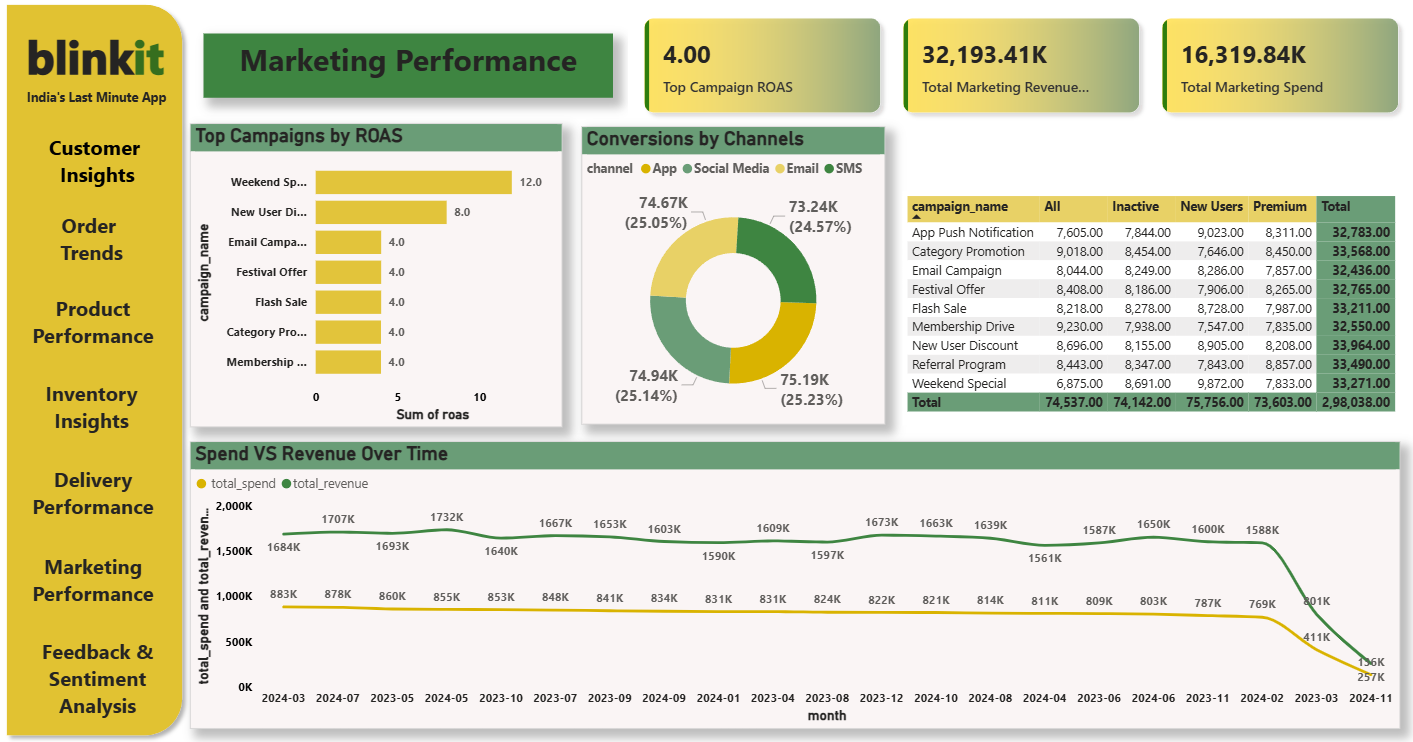

Layout of this report page (visuals, bound fields, positions):
{"tool":"powerbi","page":{"name":"Marketing Performance","canvas":[1500,800],"ordinal":5},"visuals":[{"type":"shape","box":[0,0,204.1,791.4],"z":0},{"type":"textbox","box":[16,24.8,173.9,74.5],"z":1000},{"type":"textbox","box":[19.5,92.3,170.3,30.2],"z":2000},{"type":"textbox","box":[7.1,140.2,191.6,81.6],"z":3000},{"type":"actionButton","box":[8.9,134.9,186.3,81.6],"z":4000},{"type":"textbox","box":[3.5,221.8,191.6,71],"z":5000},{"type":"actionButton","box":[8.9,221.8,186.3,71],"z":6000},{"type":"textbox","box":[5.3,308.8,191.6,71],"z":7000},{"type":"actionButton","box":[10.6,308.8,188.1,71],"z":8000},{"type":"textbox","box":[3.5,399.3,191.6,71],"z":9000},{"type":"actionButton","box":[5.3,404.6,189.9,65.7],"z":10000},{"type":"textbox","box":[5.3,489.8,191.6,71],"z":11000},{"type":"actionButton","box":[7.1,489.8,186.3,71],"z":12000},{"type":"textbox","box":[5.3,582,191.6,71],"z":13000},{"type":"actionButton","box":[7.1,582,186.3,71],"z":14000},{"type":"textbox","box":[8.9,672.5,191.6,99.4],"z":15000},{"type":"actionButton","box":[9.3,672.2,188.9,100],"z":16000},{"type":"textbox","box":[217.5,39.7,433.3,68.3],"z":17000},{"type":"cardVisual","fields":{"Data":["blinkit marketing_performance.Top Campaign ROAS","blinkit marketing_performance.Total Marketing Revenue Generated","blinkit marketing_performance.Total Marketing Spend"]},"box":[667.3,5.8,832.7,134.6],"z":18000},{"type":"barChart","title":"Top Campaigns by ROAS","fields":{"Category":["blinkit top_campaigns_roas.campaign_name"],"Y":["Sum(blinkit top_campaigns_roas.roas)"]},"box":[203.8,134.6,394.2,321.2],"z":19000},{"type":"donutChart","title":"Conversions by Channels","fields":{"Category":["blinkit conversions_by_channel.channel"],"Y":["Sum(blinkit conversions_by_channel.total_conversions)"]},"box":[617.3,138.5,321.2,315.4],"z":20000},{"type":"lineChart","title":"Spend VS Revenue Over Time","fields":{"Category":["blinkit monthly_spend_vs_revenue.month"],"Y":["Sum(blinkit monthly_spend_vs_revenue.total_spend)","Sum(blinkit monthly_spend_vs_revenue.total_revenue)"]},"box":[203.8,471.2,1280.8,303.8],"z":21000},{"type":"pivotTable","fields":{"Rows":["blinkit campaign_conversions_by_audience.campaign_name"],"Columns":["blinkit campaign_conversions_by_audience.target_audience"],"Values":["Sum(blinkit campaign_conversions_by_audience.total_conversions)"]},"box":[957.7,205.8,526.9,248.1],"z":22000}]}

Visuals, with their boxes in screenshot pixels (x1, y1, x2, y2), scaled from the page's 1500x800 canvas onto the 1413x742 screenshot:
shape: <region>0, 0, 192, 734</region>
textbox: <region>15, 23, 179, 92</region>
textbox: <region>18, 86, 179, 114</region>
textbox: <region>7, 130, 187, 206</region>
actionButton: <region>8, 125, 184, 201</region>
textbox: <region>3, 206, 184, 272</region>
actionButton: <region>8, 206, 184, 272</region>
textbox: <region>5, 286, 185, 352</region>
actionButton: <region>10, 286, 187, 352</region>
textbox: <region>3, 370, 184, 436</region>
actionButton: <region>5, 375, 184, 436</region>
textbox: <region>5, 454, 185, 520</region>
actionButton: <region>7, 454, 182, 520</region>
textbox: <region>5, 540, 185, 606</region>
actionButton: <region>7, 540, 182, 606</region>
textbox: <region>8, 624, 189, 716</region>
actionButton: <region>9, 623, 187, 716</region>
textbox: <region>205, 37, 613, 100</region>
cardVisual - blinkit marketing_performance.Top Campaign ROAS x blinkit marketing_performance.Total Marketing Revenue Generated: <region>629, 5, 1412, 130</region>
"Top Campaigns by ROAS" barChart: <region>192, 125, 563, 423</region>
"Conversions by Channels" donutChart: <region>581, 128, 884, 421</region>
"Spend VS Revenue Over Time" lineChart: <region>192, 437, 1398, 719</region>
pivotTable - blinkit campaign_conversions_by_audience.campaign_name x blinkit campaign_conversions_by_audience.target_audience: <region>902, 191, 1398, 421</region>
